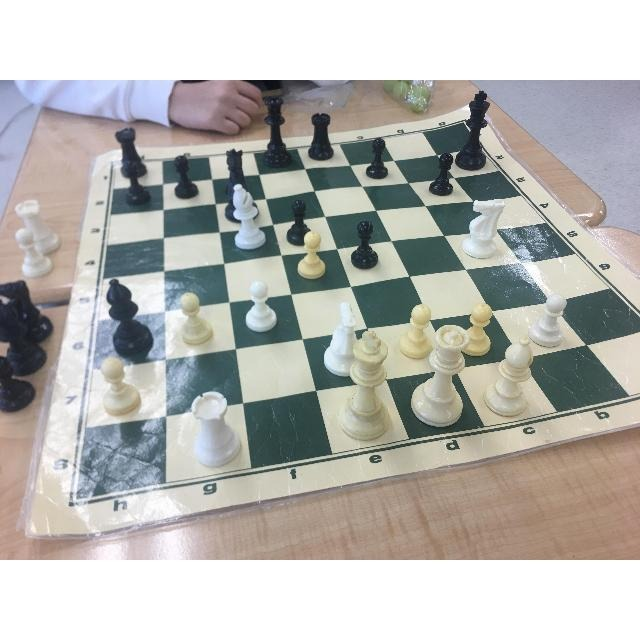black-bishop: (94, 272, 153, 356), (462, 95, 495, 185)
black-pawn: (343, 211, 387, 273), (115, 162, 152, 207), (167, 152, 201, 198), (280, 199, 313, 238), (365, 131, 391, 180), (429, 149, 455, 194)
black-queen: (256, 91, 296, 168)
black-rook: (113, 126, 149, 174), (305, 109, 332, 161)
white-bishop: (497, 336, 555, 414), (226, 179, 268, 252)
white-king: (342, 326, 398, 462)
white-knight: (319, 303, 359, 377), (469, 189, 508, 261), (211, 139, 251, 202)
white-pawn: (90, 355, 154, 419), (165, 285, 214, 345), (533, 291, 575, 355), (236, 277, 280, 335), (288, 227, 327, 284), (400, 300, 431, 358), (464, 295, 497, 348)
white-queen: (428, 322, 484, 438)
white-rook: (176, 393, 260, 487)
